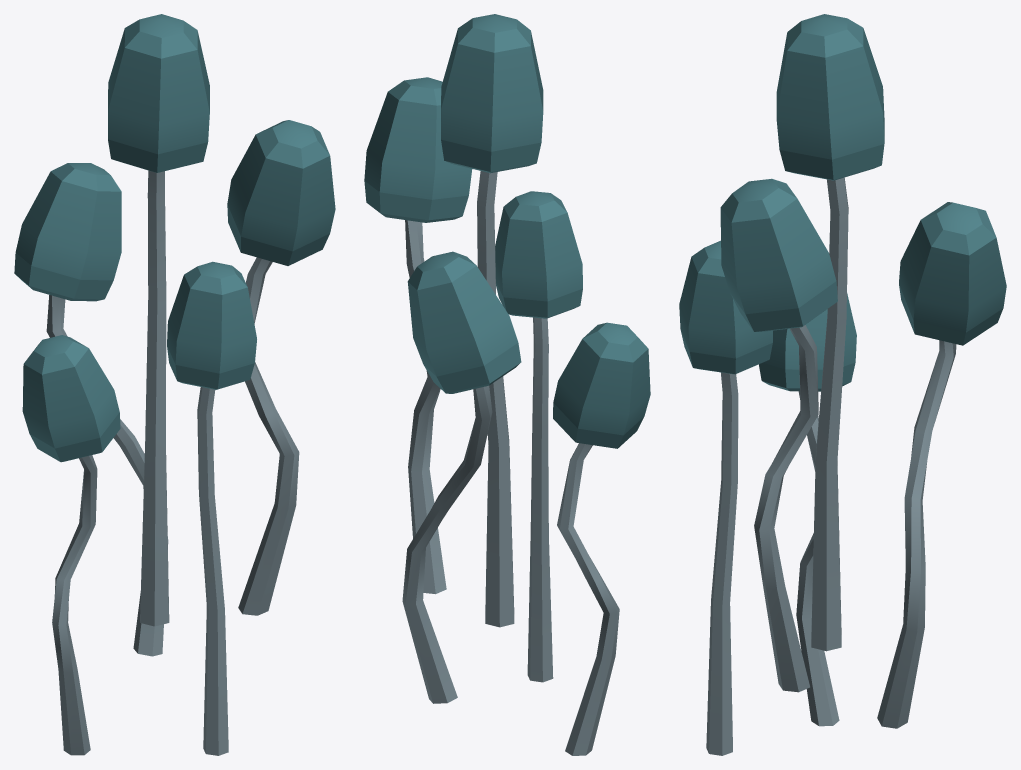
File: mushroomCluster_01.fbx
3 views of the same model, side by side, from view 1: azimuth 30°, elevation 25°; view 2: azimuth 150°, elevation 25°; view 3: azimuth 270°, elevation 25° (orthographic). The views are drawn at different scales.
Visible parts, largest first — view 1: mushroom_v01_p02, mushroom_v02_p02, mushroom_v01_p03, mushroom_v02_p03, mushroom_v03_p02; view 2: mushroom_v01_p02, mushroom_v03_p02, mushroom_v01_p03, mushroom_v02_p02, mushroom_v02_p03; view 3: mushroom_v01_p02, mushroom_v02_p02, mushroom_v03_p02, mushroom_v01_p03, mushroom_v02_p03.
Boxes of the visible parts, left/top/right/bottom form: mushroom_v01_p02: left=108, top=14, right=209, bottom=626; mushroom_v02_p02: left=227, top=120, right=335, bottom=615; mushroom_v01_p03: left=167, top=261, right=256, bottom=755; mushroom_v02_p03: left=22, top=335, right=120, bottom=755; mushroom_v03_p02: left=14, top=163, right=168, bottom=656; mushroom_v01_p02: left=441, top=14, right=543, bottom=627; mushroom_v03_p02: left=402, top=251, right=521, bottom=703; mushroom_v01_p03: left=495, top=191, right=582, bottom=682; mushroom_v02_p02: left=364, top=77, right=472, bottom=594; mushroom_v02_p03: left=553, top=322, right=650, bottom=755; mushroom_v01_p02: left=776, top=14, right=884, bottom=651; mushroom_v02_p02: left=720, top=178, right=837, bottom=692; mushroom_v03_p02: left=877, top=202, right=1006, bottom=728; mushroom_v01_p03: left=679, top=240, right=772, bottom=755; mushroom_v02_p03: left=759, top=293, right=856, bottom=726.
Bounding box in the file's own units: 3.15 × 7.59 × 3.02.
